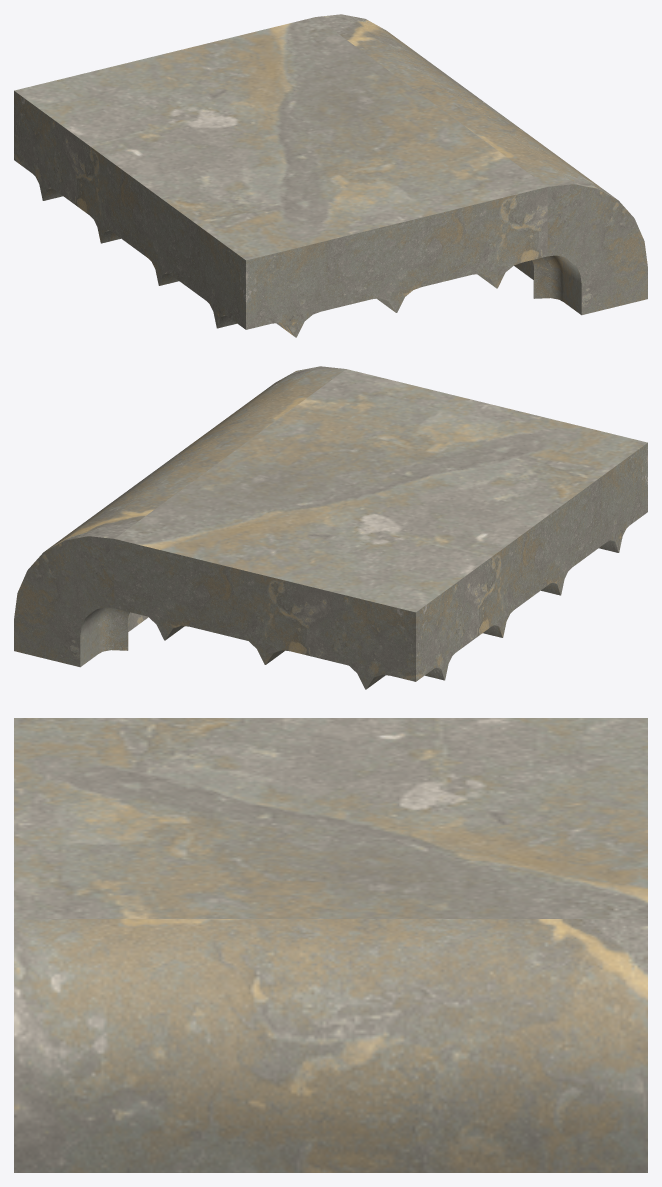
Rendered from SM_Corridor_Ceiling_Skirt.fbx.
3 views of the same model, one above another, from view 1: azimuth 30°, elevation 25°; view 2: azimuth 150°, elevation 25°; view 3: azimuth 270°, elevation 25° (orthographic). The views are drawn at different scales.
Visible parts, largest first — view 1: SM_Corridor_Ceiling_Skirt_LOD0; view 2: SM_Corridor_Ceiling_Skirt_LOD0; view 3: SM_Corridor_Ceiling_Skirt_LOD0.
Part boxes in pixels (<box>): SM_Corridor_Ceiling_Skirt_LOD0: <box>14,14,647,337</box>; SM_Corridor_Ceiling_Skirt_LOD0: <box>14,366,647,689</box>; SM_Corridor_Ceiling_Skirt_LOD0: <box>14,718,647,1172</box>.
Size of the model in its own units: 400 by 400 by 130.
1 material, 1 textured.
